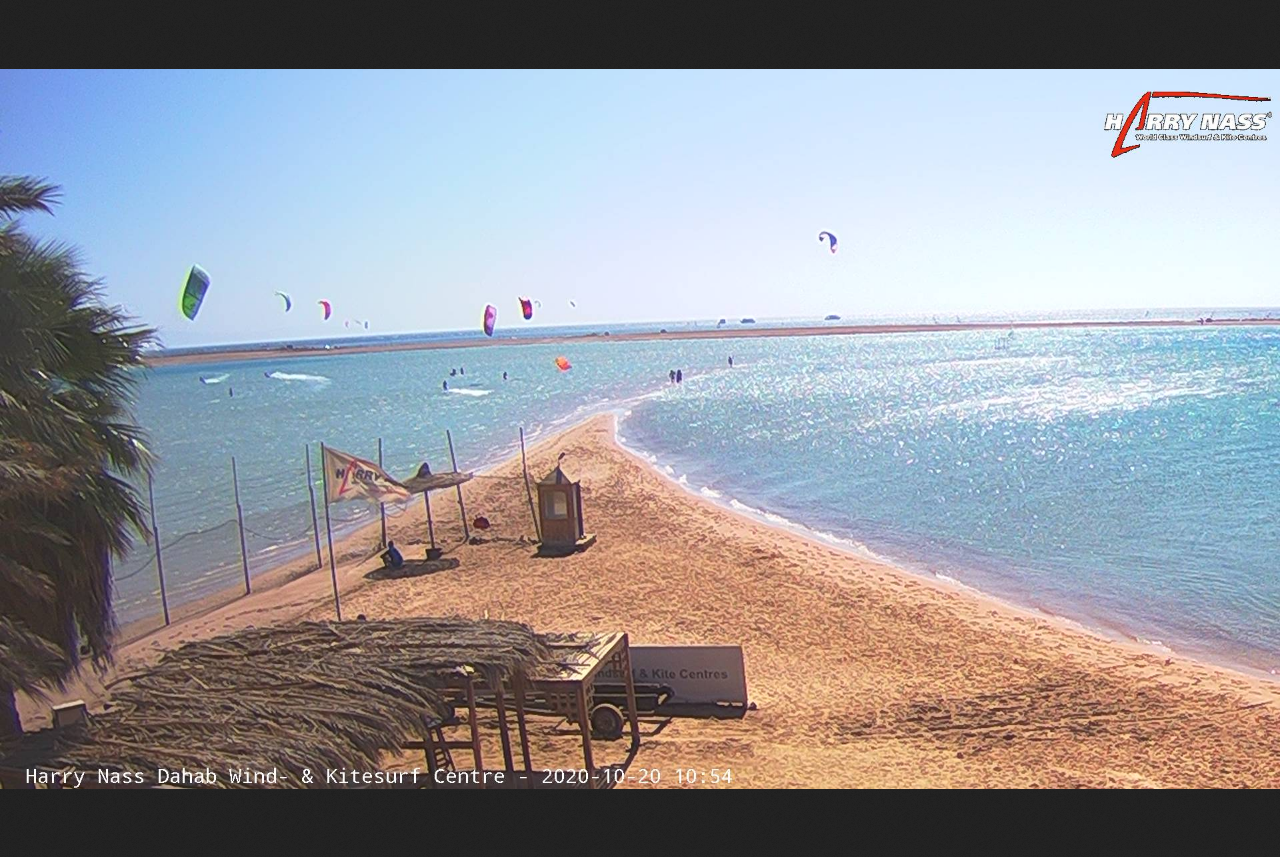yes: (324, 447, 414, 513)
